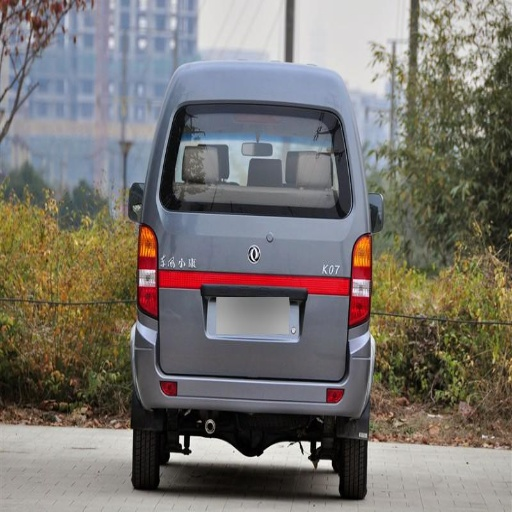back_bumper: (132, 312, 377, 410)
back_glass: (171, 104, 329, 187)
back_left_door: (312, 116, 343, 170)
tailgate: (223, 189, 352, 218)
trunk: (141, 195, 360, 381)
